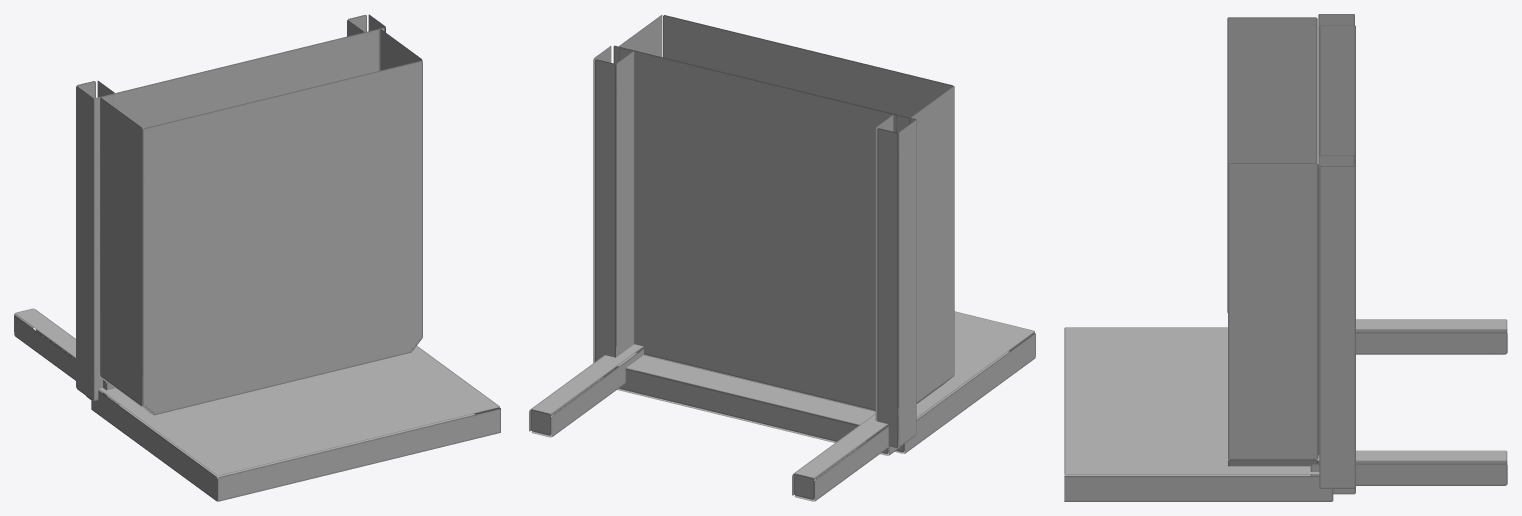
The model's file is pz_bed_bedding_01_blue_0_0.obj.
The picture shows the model from 3 angles, left to right: view 1: azimuth 30°, elevation 25°; view 2: azimuth 150°, elevation 25°; view 3: azimuth 270°, elevation 25°; orthographic projection. The views are drawn at different scales.
Bounding box in the file's own units: 0.95 × 0.985 × 1.17.
1 material, 1 textured.
